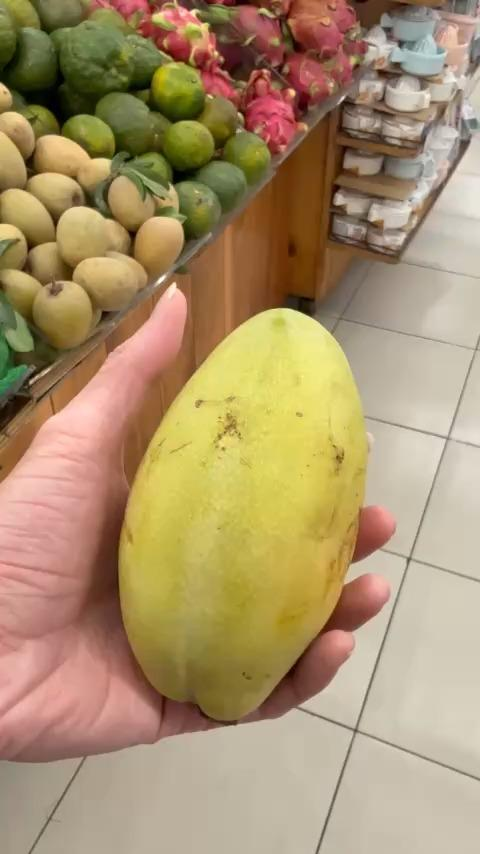mango: (112, 295, 358, 721)
